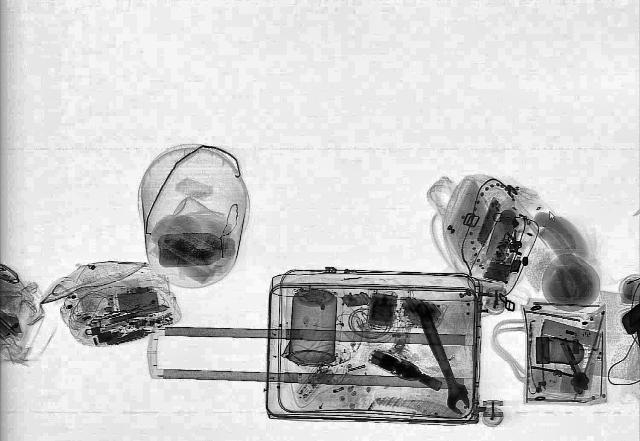Wrench: (402, 302, 476, 415)
